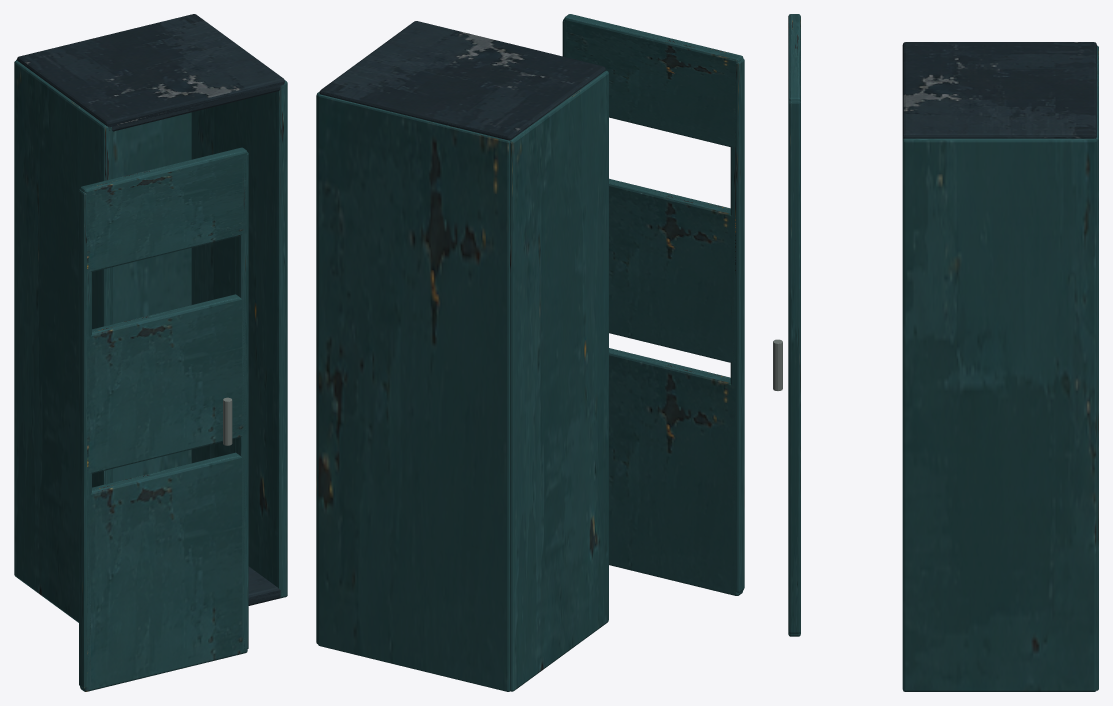
Rendered from locker-single.glb.
3 renders of one model, left to right at view 1: azimuth 30°, elevation 25°; view 2: azimuth 150°, elevation 25°; view 3: azimuth 270°, elevation 25°, orthographic. The views are drawn at different scales.
Parts seen in each view (by area): view 1: locker-single__locker-door__petrol, locker-single__locker-single__petrol, locker-single__locker-single__steel, locker-single__locker-door__hardware; view 2: locker-single__locker-single__petrol, locker-single__locker-door__petrol, locker-single__locker-single__steel; view 3: locker-single__locker-single__petrol, locker-single__locker-single__steel, locker-single__locker-door__petrol, locker-single__locker-door__hardware.
Part boxes in pixels (bbox=[...]): locker-single__locker-door__petrol: bbox=[79, 147, 248, 691]; locker-single__locker-single__petrol: bbox=[14, 59, 287, 622]; locker-single__locker-single__steel: bbox=[17, 14, 284, 605]; locker-single__locker-door__hardware: bbox=[223, 397, 232, 445]; locker-single__locker-single__petrol: bbox=[316, 70, 608, 691]; locker-single__locker-door__petrol: bbox=[562, 14, 744, 595]; locker-single__locker-single__steel: bbox=[319, 21, 605, 140]; locker-single__locker-single__petrol: bbox=[902, 45, 1098, 691]; locker-single__locker-single__steel: bbox=[902, 42, 1096, 139]; locker-single__locker-door__petrol: bbox=[788, 14, 800, 636]; locker-single__locker-door__hardware: bbox=[773, 339, 782, 390].
Size of the model in its own units: 1.15 by 2.22 by 1.18.
3 materials, 2 textured.
